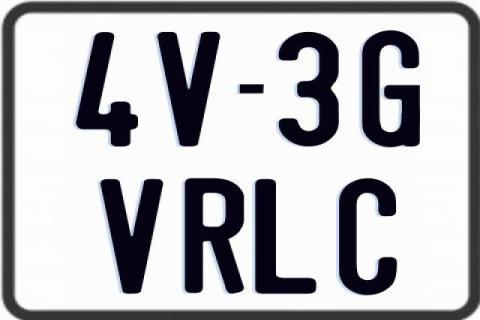0: (75, 30, 140, 148), (277, 30, 342, 148)
C: (338, 176, 400, 297)
G: (362, 31, 424, 150)
L: (252, 177, 315, 295)
R: (183, 179, 243, 295)
V: (156, 29, 224, 149), (98, 177, 163, 297)
